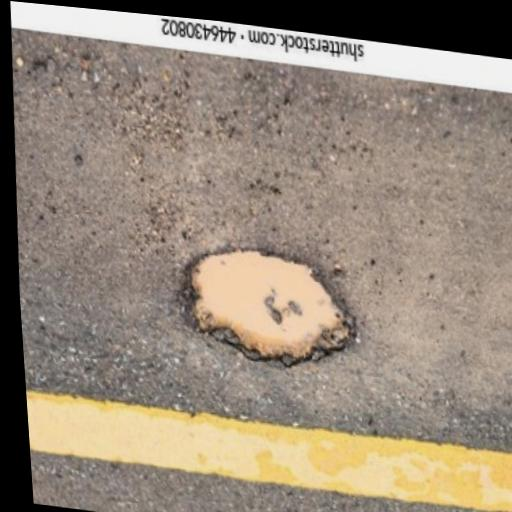pothole: (73, 149, 319, 505)
